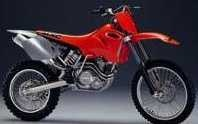motorcycle: (5, 5, 193, 122)
